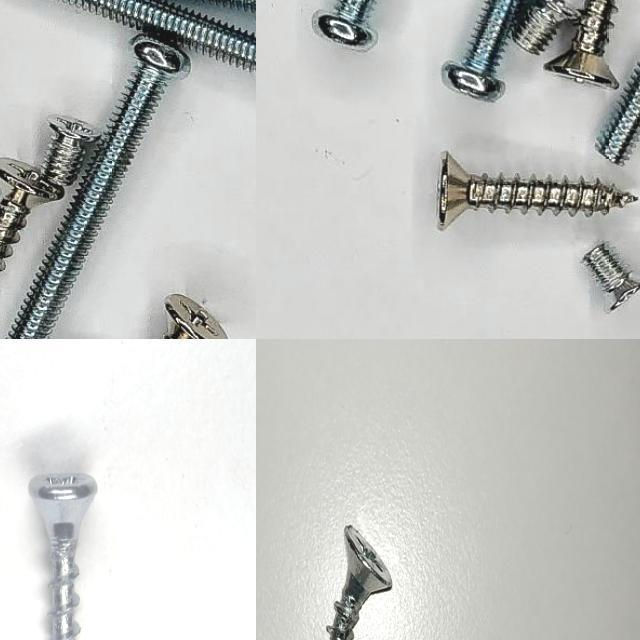Screw: (7, 34, 190, 339), (438, 153, 637, 230), (62, 0, 256, 72), (29, 472, 98, 640), (443, 0, 522, 101), (327, 524, 392, 640), (0, 159, 63, 272), (545, 0, 620, 89), (43, 115, 100, 186), (584, 243, 640, 312), (513, 0, 582, 55), (165, 295, 228, 339)
